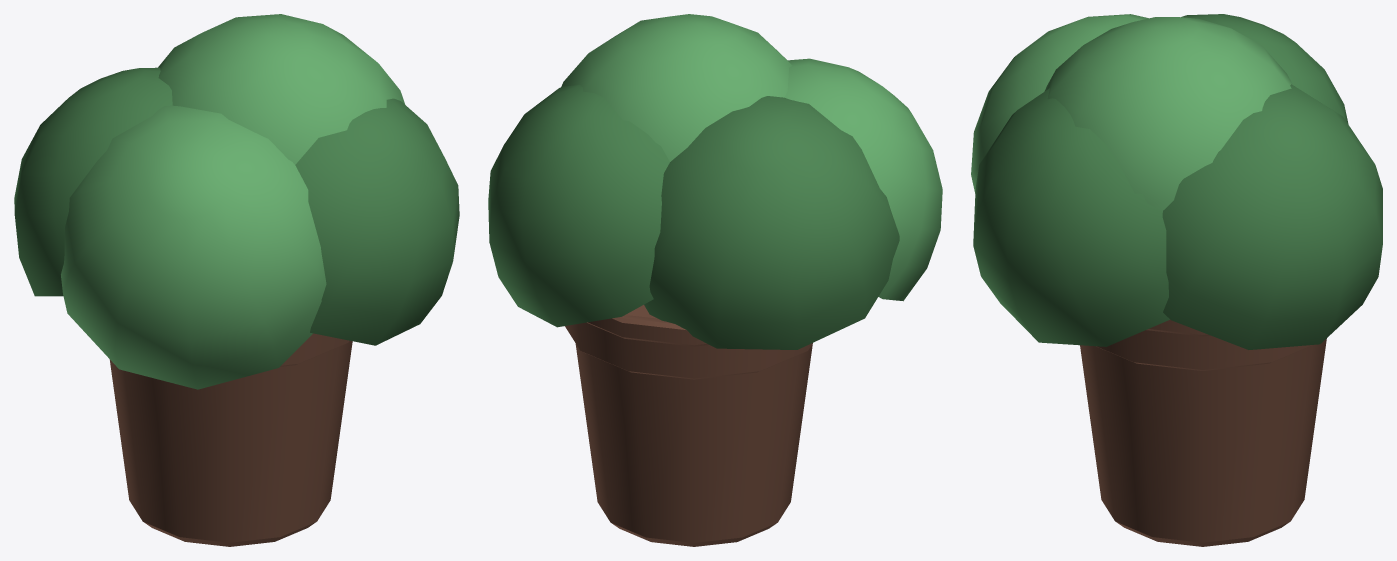
The model's file is flowerpotsmall1.fbx.
3 renders of one model, left to right at view 1: azimuth 30°, elevation 25°; view 2: azimuth 150°, elevation 25°; view 3: azimuth 270°, elevation 25°, orthographic. The views are drawn at different scales.
Parts seen in each view (by area): view 1: pSphere23, pCylinder1, pSphere22, pSphere26, pSphere24; view 2: pSphere24, pCylinder1, pSphere25, pSphere26, pSphere23; view 3: pSphere25, pCylinder1, pSphere22, pSphere26, pSphere23, pSphere24.
Part boxes in pixels (x1,y1,x2,y2): pSphere23: (61,105,326,389); pCylinder1: (109,333,352,546); pSphere22: (295,98,459,345); pSphere26: (158,14,404,164); pSphere24: (14,67,172,296); pSphere24: (644,96,899,349); pCylinder1: (565,305,812,546); pSphere25: (488,85,669,327); pSphere26: (561,14,792,161); pSphere23: (784,58,942,301); pSphere25: (1162,84,1382,349); pCylinder1: (1080,319,1326,546); pSphere22: (973,88,1169,346); pSphere26: (1044,17,1292,210); pSphere23: (971,14,1148,193); pSphere24: (1181,14,1348,124).
Bounding box in the file's own units: 3.97 × 4.91 × 3.74.
